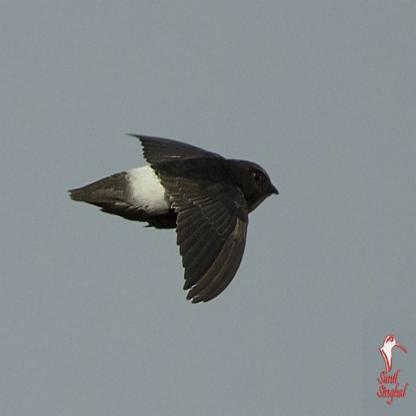Burung: (67, 134, 278, 304)
